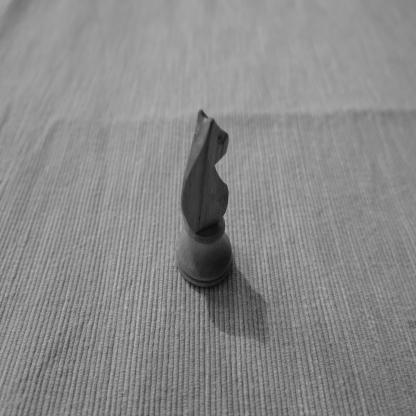white-knight: (174, 107, 233, 291)
